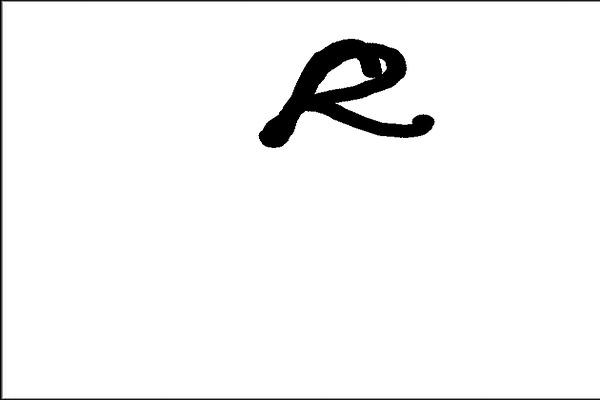R: (254, 21, 442, 175)
